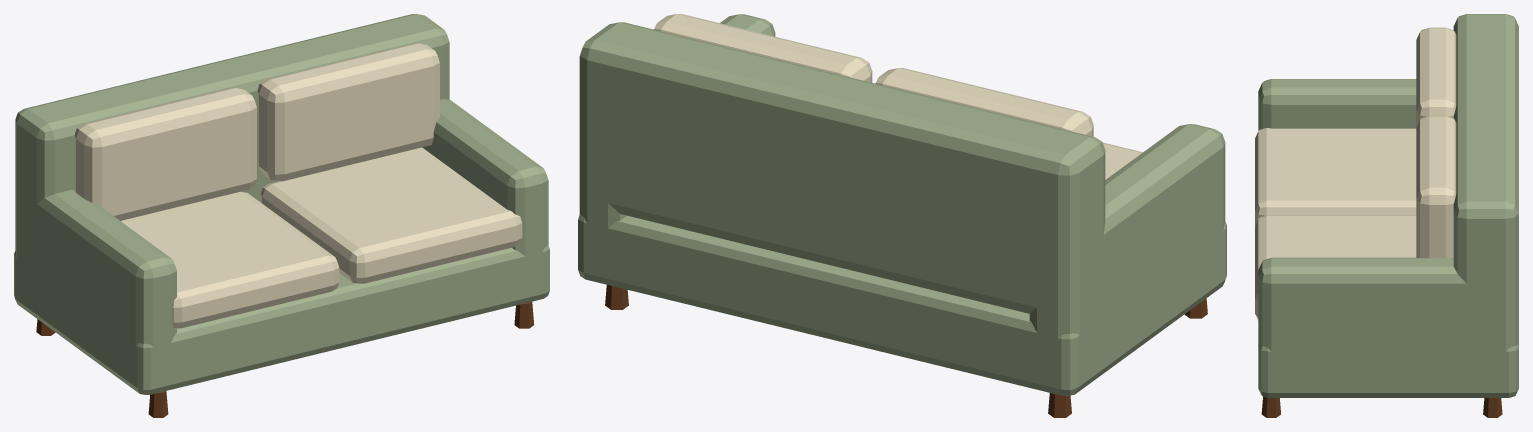
The model's file is sofa.glb.
The picture shows the model from 3 angles, left to right: view 1: azimuth 30°, elevation 25°; view 2: azimuth 150°, elevation 25°; view 3: azimuth 270°, elevation 25°; orthographic projection. The views are drawn at different scales.
Parts seen in each view (by area): view 1: sofa; view 2: sofa; view 3: sofa.
Part boxes in pixels (x1,y1,x2,y2): sofa: [14, 14, 549, 417]; sofa: [578, 14, 1226, 417]; sofa: [1255, 14, 1518, 417].
Bounding box in the file's own units: 1.44 × 0.74 × 0.8099.
Materials: 1 (1 with a texture image).
